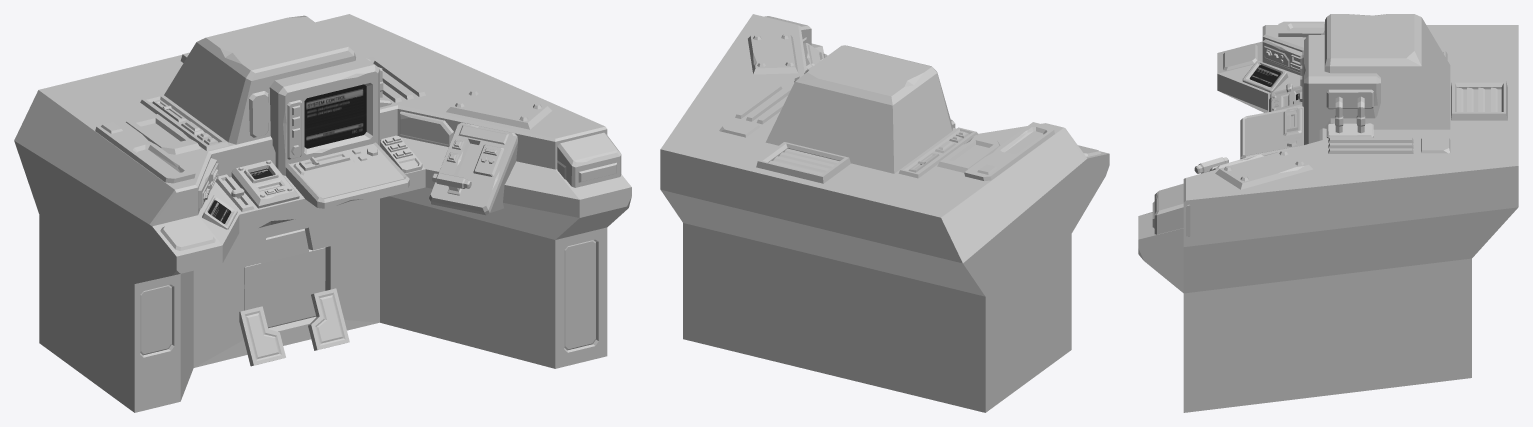
File: SM_Prop_Cockpit_R_01.fbx
The picture shows the model from 3 angles, left to right: view 1: azimuth 30°, elevation 25°; view 2: azimuth 150°, elevation 25°; view 3: azimuth 270°, elevation 25°; orthographic projection. The views are drawn at different scales.
Parts seen in each view (by area): view 1: SM_Prop_Cockpit_R_01; view 2: SM_Prop_Cockpit_R_01; view 3: SM_Prop_Cockpit_R_01.
Boxes of the visible parts, left/top/right/bottom form: SM_Prop_Cockpit_R_01: left=14, top=14, right=631, bottom=412; SM_Prop_Cockpit_R_01: left=660, top=14, right=1109, bottom=412; SM_Prop_Cockpit_R_01: left=1138, top=14, right=1518, bottom=412.
Bounding box in the file's own units: 237 × 163 × 204.
